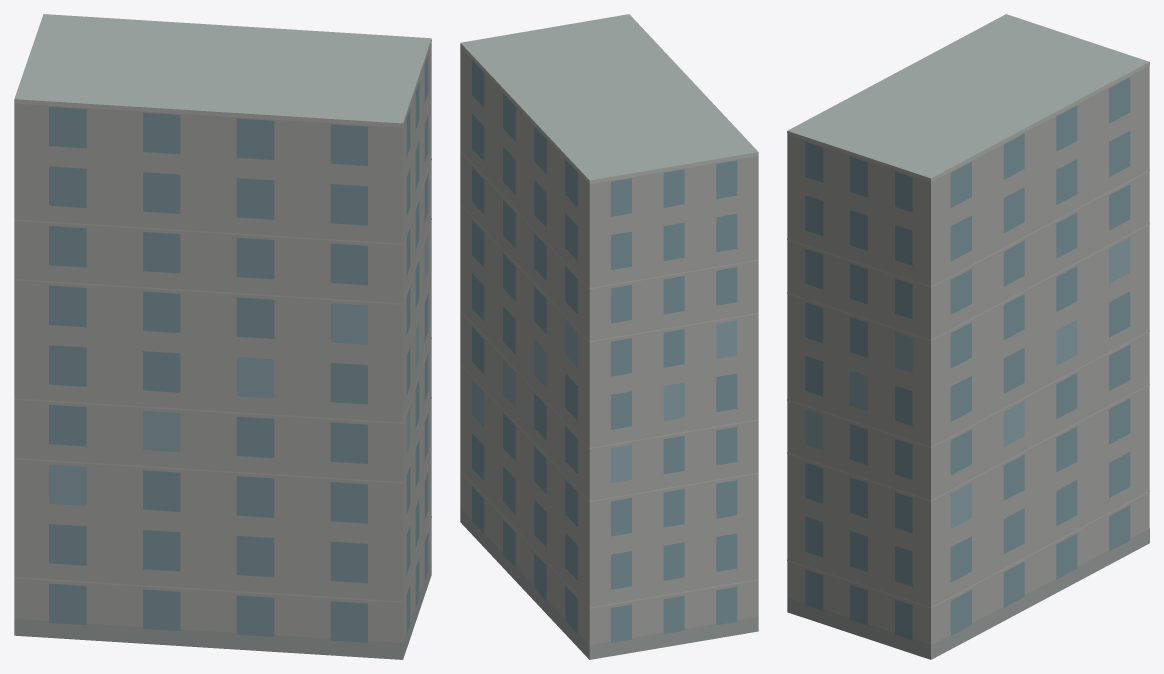
The model's file is survey-upis-33024206.glb.
3 renders of one model, left to right at view 1: azimuth 30°, elevation 25°; view 2: azimuth 150°, elevation 25°; view 3: azimuth 270°, elevation 25°, orthographic. The views are drawn at different scales.
Visible parts, largest first — view 1: survey-upis-33024206.tmp; view 2: survey-upis-33024206.tmp; view 3: survey-upis-33024206.tmp.
Part boxes in pixels (x1=…): survey-upis-33024206.tmp: x1=14, y1=14, x2=431, y2=659; survey-upis-33024206.tmp: x1=460, y1=14, x2=758, y2=659; survey-upis-33024206.tmp: x1=787, y1=14, x2=1149, y2=659.
Size of the model in its own units: 22.44 by 30.6 by 20.9.
